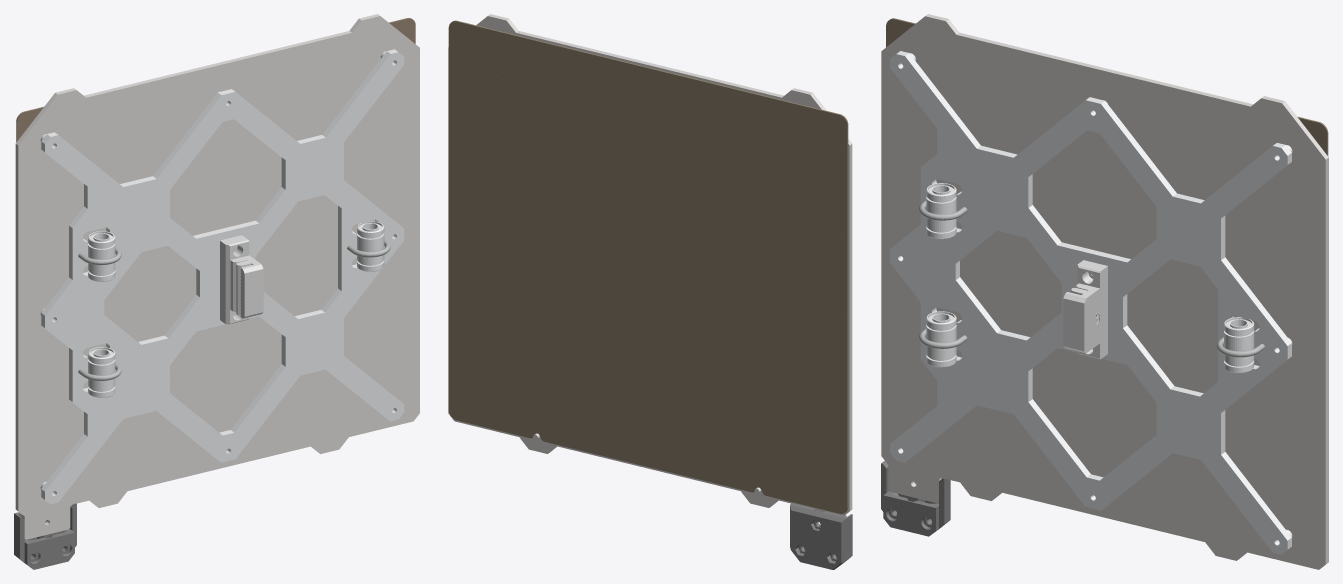
File: prusamk3-y.dae
3 views of the same model, side by side, from view 1: azimuth 30°, elevation 25°; view 2: azimuth 150°, elevation 25°; view 3: azimuth 330°, elevation 25° (orthographic). The views are drawn at different scales.
Visible parts, largest first — view 1: Part__Feature108, Part__Feature049, Part__Feature053, Part__Feature119, Part__Feature052, Part__Feature051, Part__Feature050, Part__Feature118, Part__Feature120; view 2: Part__Feature120, Part__Feature108, Part__Feature118; view 3: Part__Feature108, Part__Feature049, Part__Feature053, Part__Feature119, Part__Feature051, Part__Feature052, Part__Feature050, Part__Feature120, Part__Feature118.
Boxes of the visible parts, box(x1,y1,x2,y2) form: Part__Feature108: box(15, 14, 419, 539); Part__Feature049: box(41, 49, 404, 504); Part__Feature053: box(220, 235, 263, 324); Part__Feature119: box(24, 529, 74, 569); Part__Feature052: box(88, 347, 115, 397); Part__Feature051: box(88, 231, 115, 281); Part__Feature050: box(357, 221, 384, 271); Part__Feature118: box(14, 503, 76, 563); Part__Feature120: box(16, 18, 415, 142); Part__Feature120: box(448, 20, 848, 513); Part__Feature108: box(448, 14, 852, 524); Part__Feature118: box(790, 503, 852, 569); Part__Feature108: box(881, 14, 1328, 569); Part__Feature049: box(890, 51, 1291, 554); Part__Feature053: box(1063, 260, 1107, 359); Part__Feature119: box(883, 491, 939, 536); Part__Feature051: box(926, 183, 956, 239); Part__Feature052: box(926, 311, 956, 367); Part__Feature050: box(1224, 317, 1254, 373); Part__Feature120: box(886, 18, 1328, 156); Part__Feature118: box(881, 461, 950, 529).
Size of the model in its own units: 254 by 41.42 by 281.
